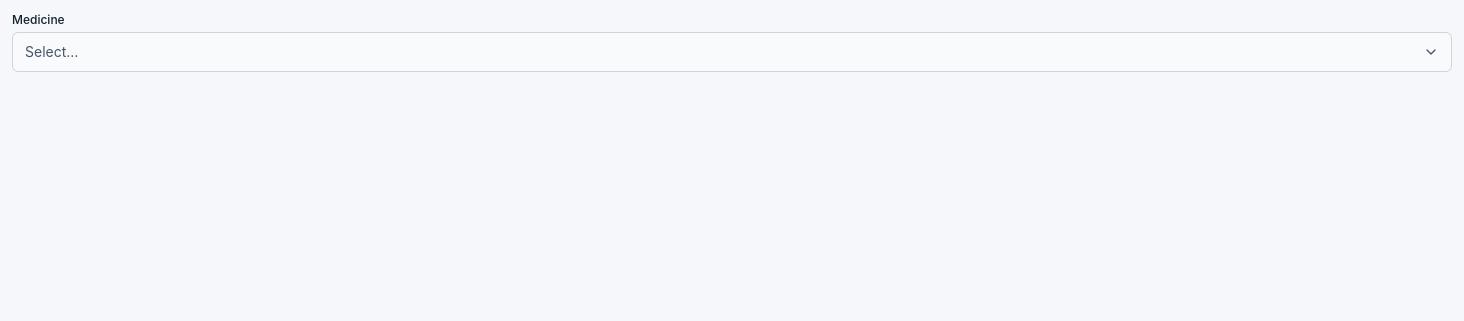
Test case: SearchableSelect › filters the options as the user types
Click the dropdown named "Medicine". click: coordinates (52, 52)
box: [12,32,1452,72]
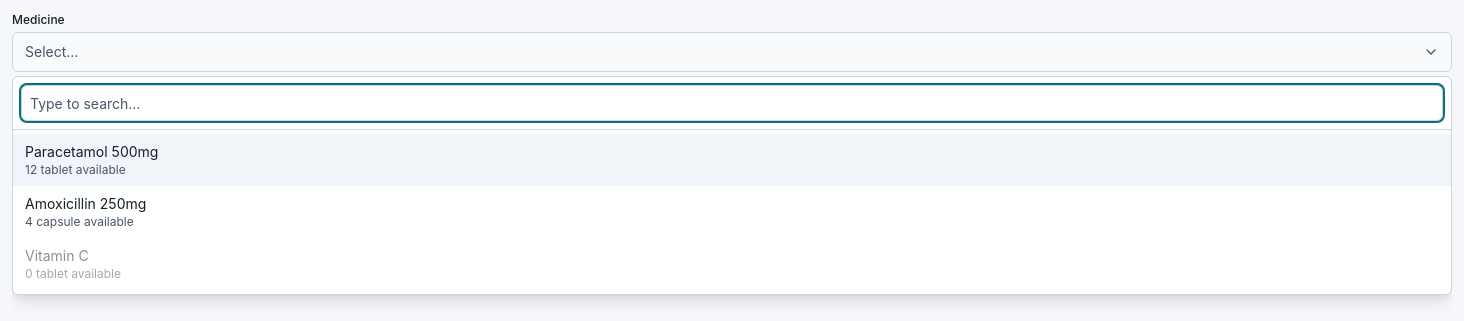
Type "amox" into the search field. click: coordinates (732, 103)
box: [21,85,1443,121]
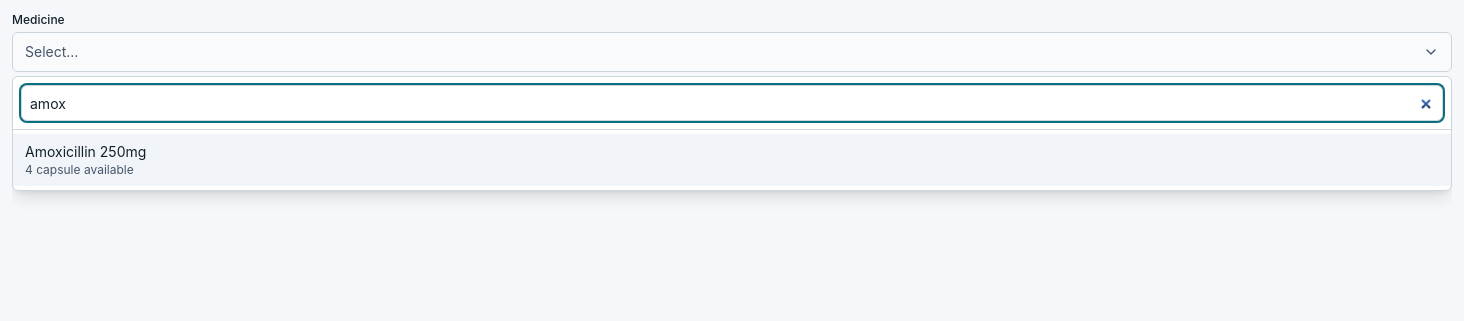
expect the option "Amoxicillin 250mg 4 capsule available" is shown: met, box [13,134,1451,186]
expect the option "Paracetamol" is gone: met
